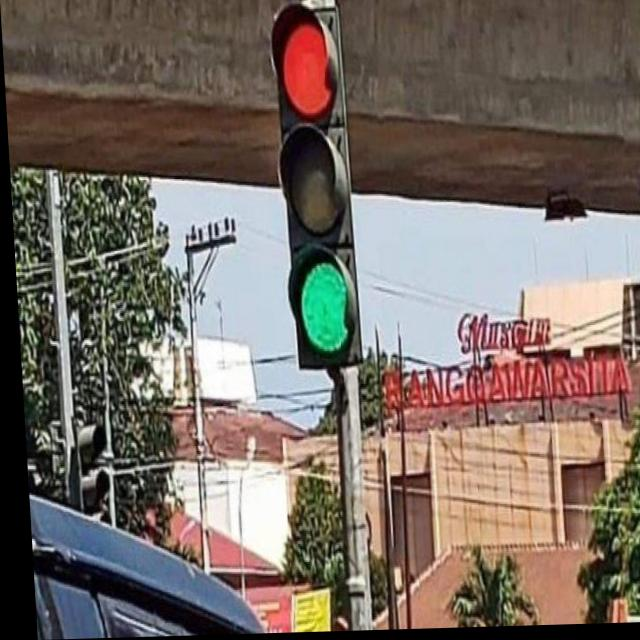green light: (274, 118, 359, 371)
